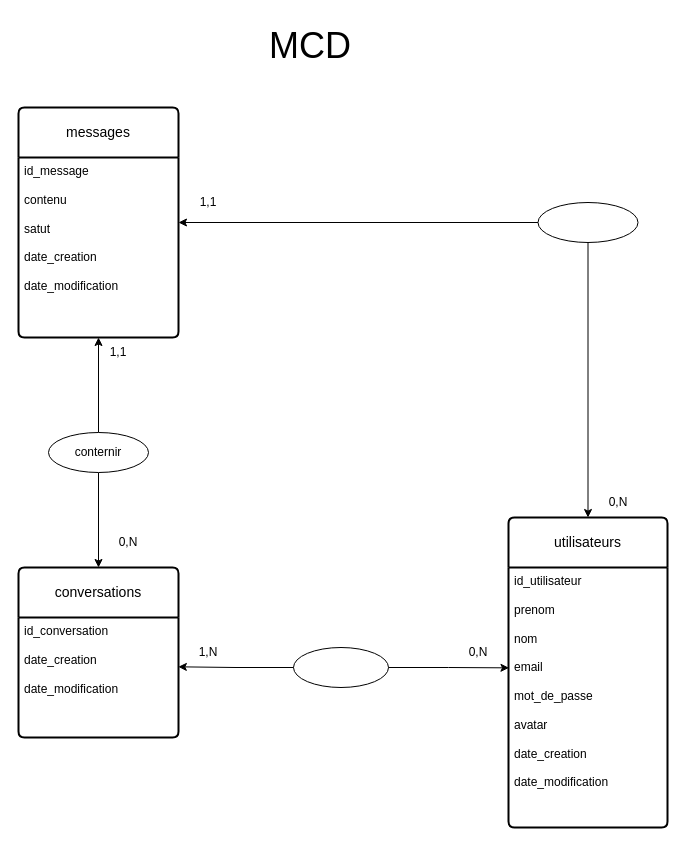
Image size: 685x845. Some labels were removed from this diagram. Each missing label, with the box of its shape:
envoyer: (537, 202, 638, 242)
participer: (292, 646, 388, 688)
